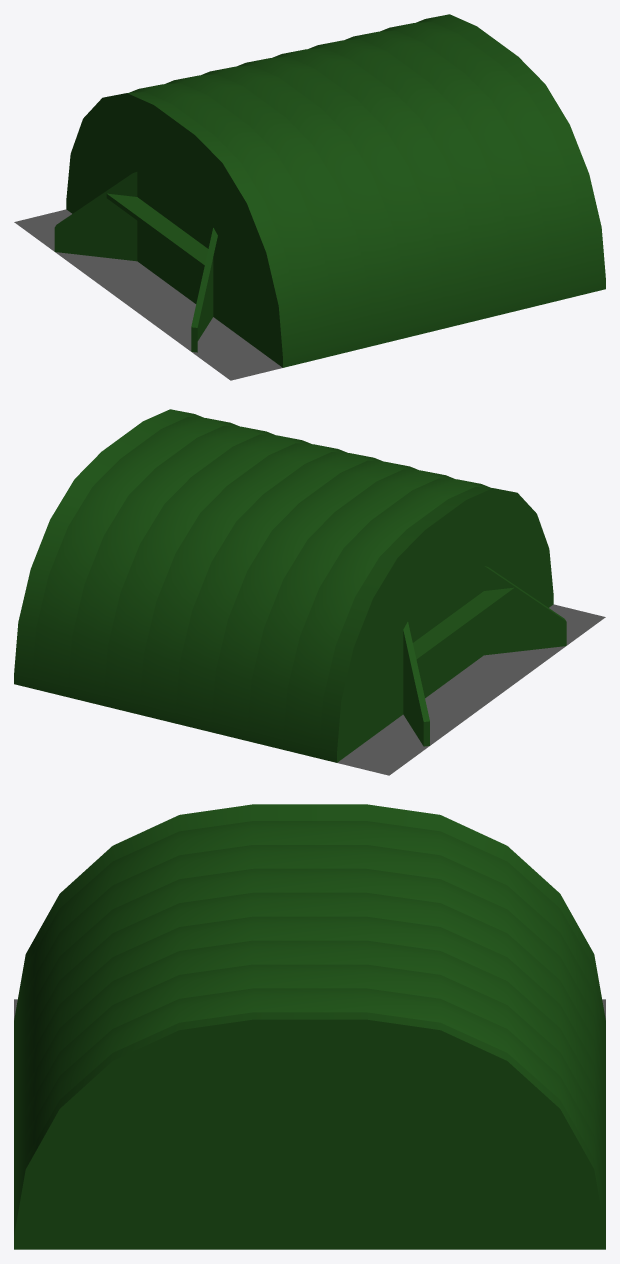
The model's file is 1x1_Bunker.col.glb.
3 views of the same model, one above another, from view 1: azimuth 30°, elevation 25°; view 2: azimuth 150°, elevation 25°; view 3: azimuth 270°, elevation 25° (orthographic). The views are drawn at different scales.
Parts seen in each view (by area): view 1: 1x1_Bunker.col; view 2: 1x1_Bunker.col; view 3: 1x1_Bunker.col.
Part boxes in pixels (x1=…): 1x1_Bunker.col: x1=14, y1=14, x2=605, y2=380; 1x1_Bunker.col: x1=14, y1=409, x2=605, y2=775; 1x1_Bunker.col: x1=14, y1=804, x2=605, y2=1249.
Bounding box in the file's own units: 20 × 8.57 × 20.
